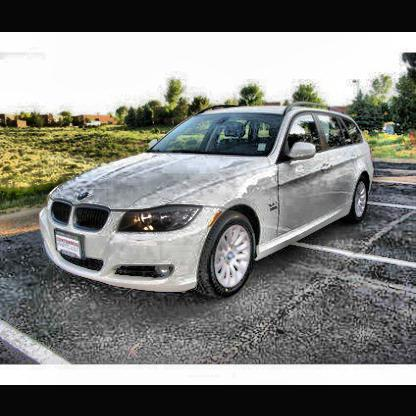BMW 3 Series Wagon 2012: (43, 105, 376, 299)
